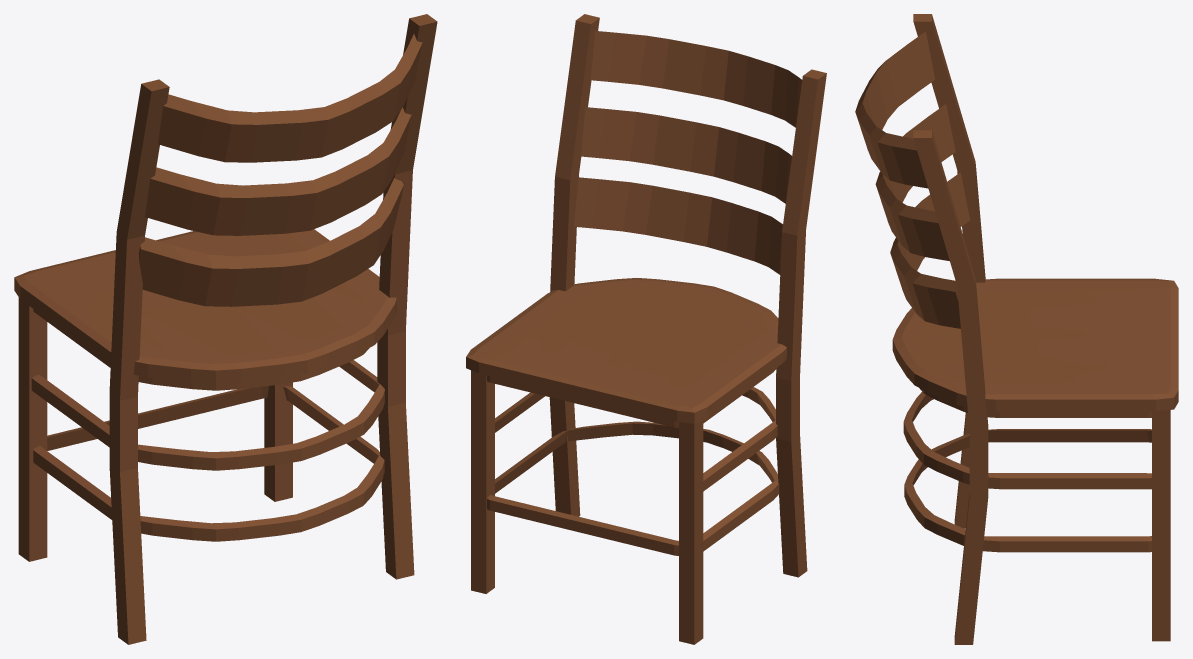
Rendered from Chair_Wood_03.glb.
3 views of the same model, side by side, from view 1: azimuth 30°, elevation 25°; view 2: azimuth 150°, elevation 25°; view 3: azimuth 270°, elevation 25° (orthographic). The views are drawn at different scales.
Visible parts, largest first — view 1: Mesh_Chair_Wood_03; view 2: Mesh_Chair_Wood_03; view 3: Mesh_Chair_Wood_03.
Boxes of the visible parts, bbox=[...] form: Mesh_Chair_Wood_03: bbox=[14, 14, 437, 644]; Mesh_Chair_Wood_03: bbox=[466, 14, 826, 644]; Mesh_Chair_Wood_03: bbox=[855, 14, 1178, 644].
Bounding box in the file's own units: 0.4086 × 0.7807 × 0.4506.
Materials: 1 (1 with a texture image).
